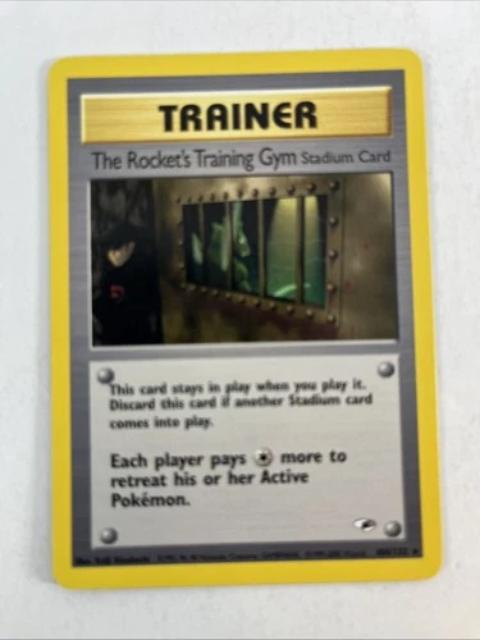Card: (40, 44, 446, 592)
Name: (84, 140, 300, 181)
